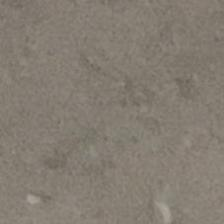Non_Crack: (17, 28, 218, 166)
